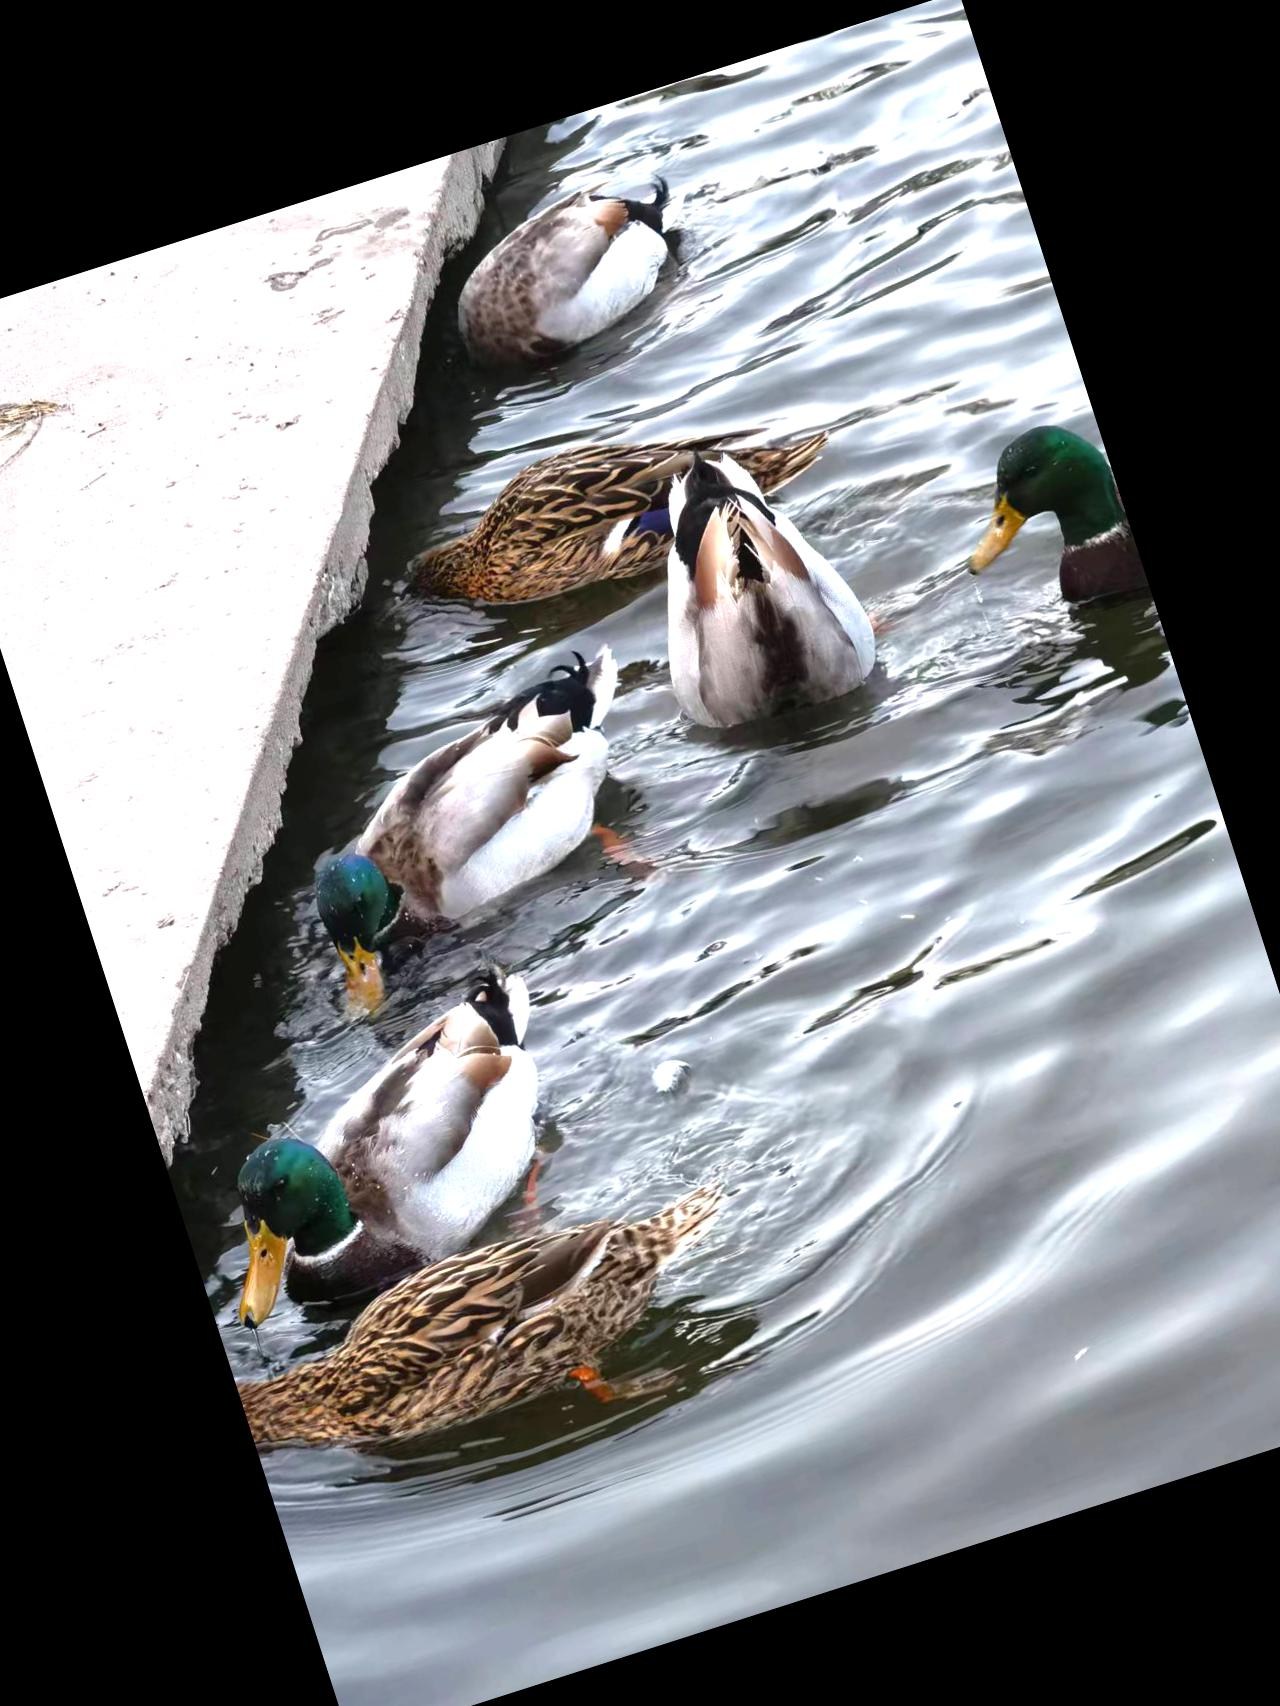duck: (216, 1148, 791, 1520), (246, 628, 710, 1042), (155, 938, 610, 1334), (352, 343, 883, 669), (588, 401, 920, 764), (909, 391, 1183, 752), (411, 151, 739, 397)
